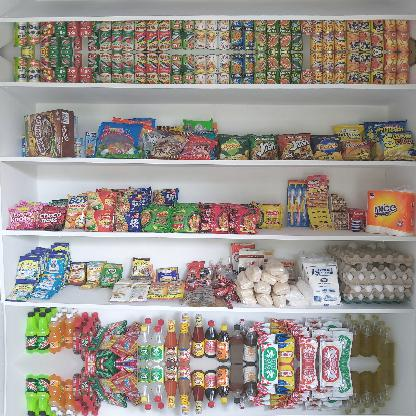Koko-Krunch: (24, 109, 74, 157)
